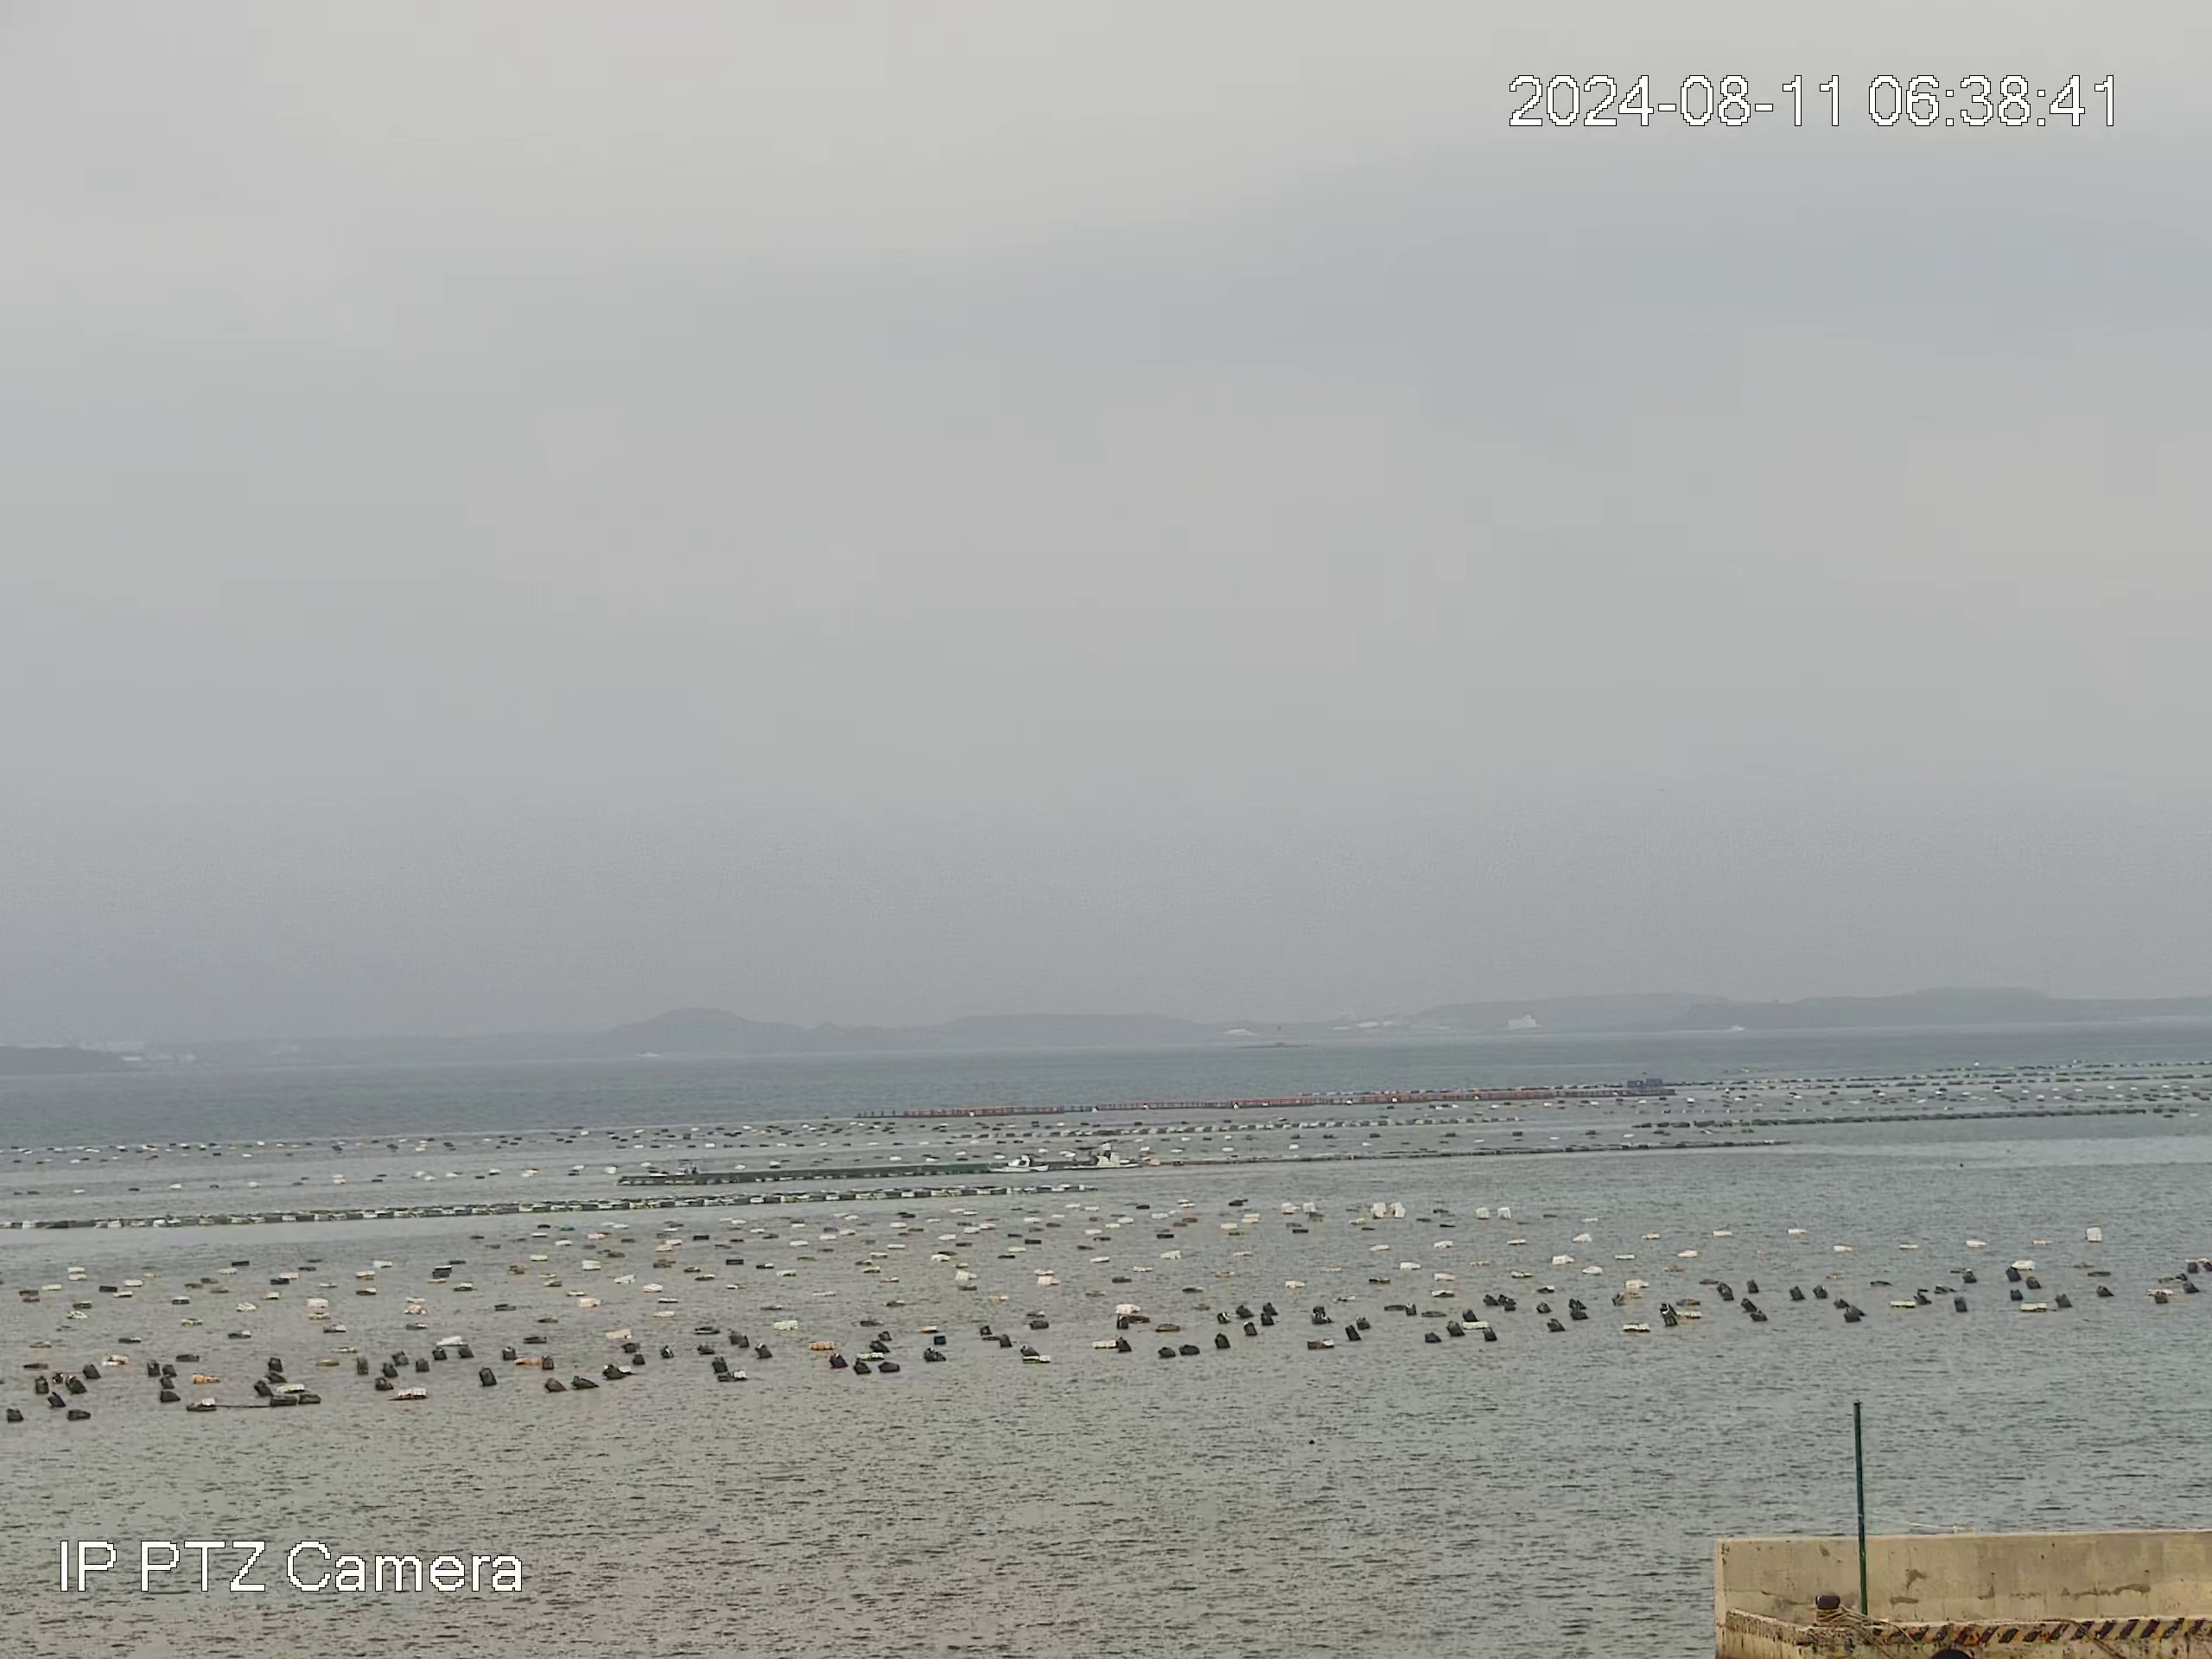boat: (1062, 1143, 1141, 1171), (986, 1154, 1050, 1175)
